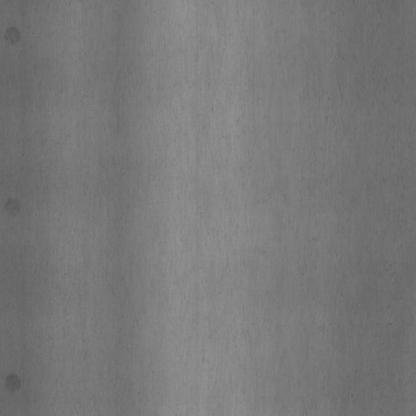oil_spot: (0, 372, 21, 400), (3, 198, 24, 222), (5, 20, 20, 46)
